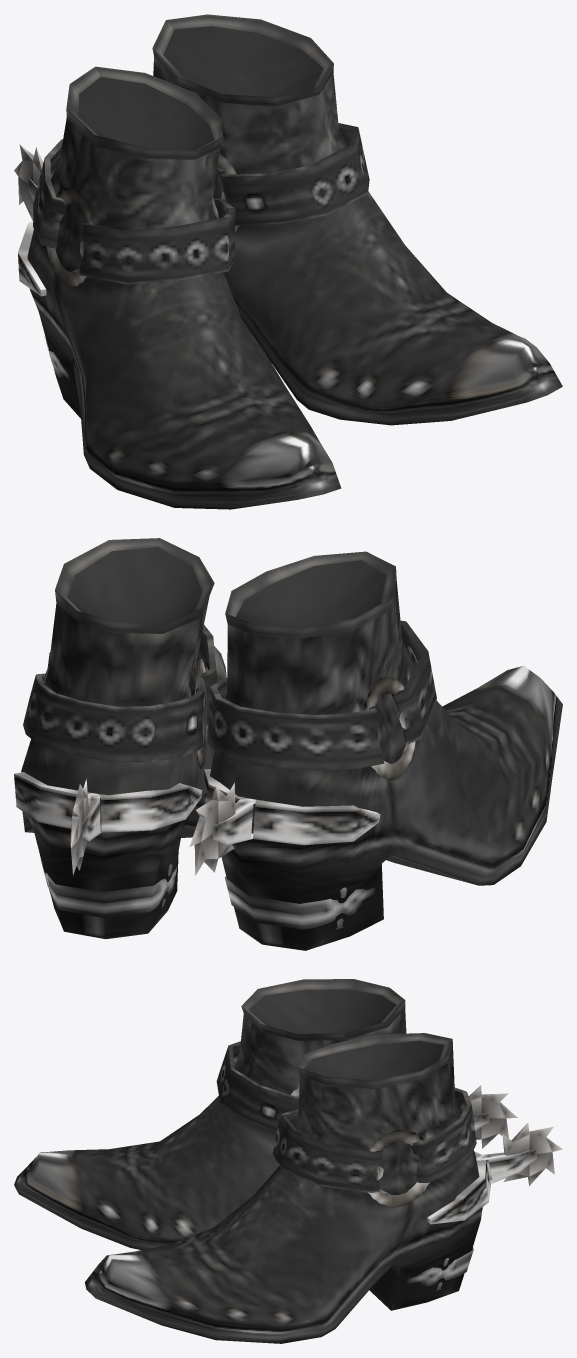
The model's file is Cowboy_Ankle_Ground.fbx.
3 renders of one model, top to bottom at view 1: azimuth 30°, elevation 25°; view 2: azimuth 150°, elevation 25°; view 3: azimuth 270°, elevation 25°, orthographic. The views are drawn at different scales.
Visible parts, largest first — view 1: Cowboy_Ankle; view 2: Cowboy_Ankle; view 3: Cowboy_Ankle.
Part boxes in pixels (x1,y1,x2,y2): Cowboy_Ankle: (14, 14, 562, 509); Cowboy_Ankle: (14, 538, 562, 950); Cowboy_Ankle: (14, 979, 562, 1343).
Bounding box in the file's own units: 0.1378 × 0.0977 × 0.205.
